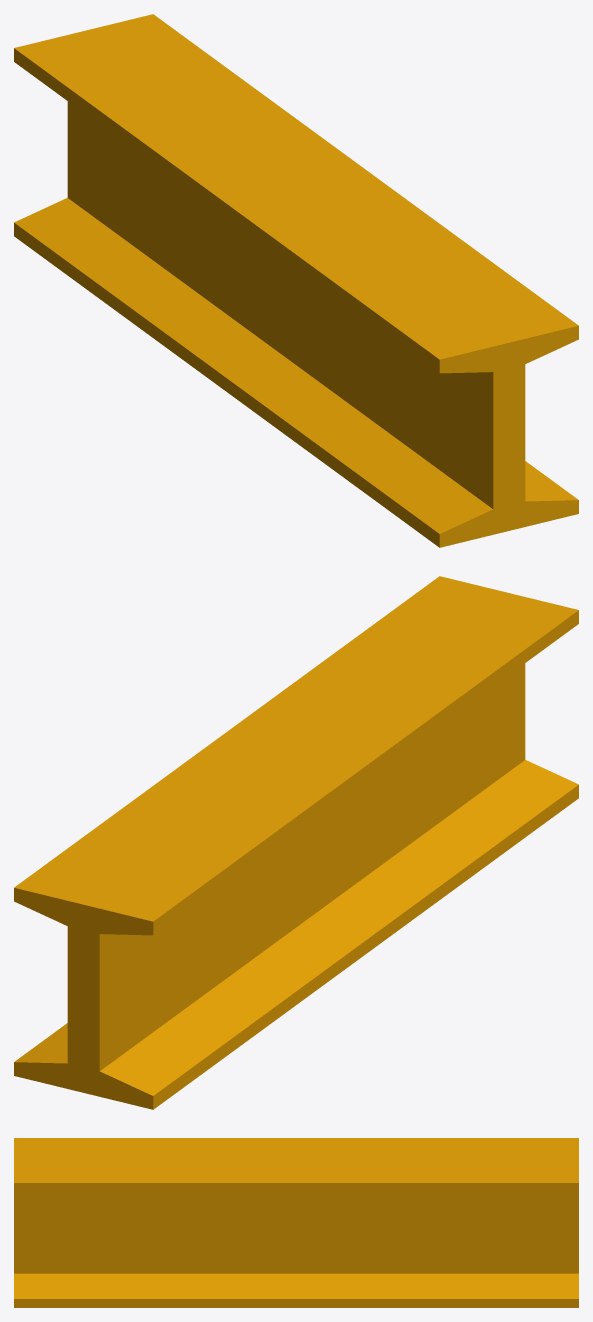
Rendered from 铝合金钢梁.FBX.
3 renders of one model, top to bottom at view 1: azimuth 30°, elevation 25°; view 2: azimuth 150°, elevation 25°; view 3: azimuth 270°, elevation 25°, orthographic. The views are drawn at different scales.
Parts seen in each view (by area): view 1: 铝合金钢梁; view 2: 铝合金钢梁; view 3: 铝合金钢梁.
Boxes of the visible parts, x1=… form: 铝合金钢梁: x1=14, y1=14, x2=578, y2=547; 铝合金钢梁: x1=14, y1=576, x2=578, y2=1109; 铝合金钢梁: x1=14, y1=1138, x2=578, y2=1307.
Size of the model in its own units: 14.29 by 18.45 by 75.67.
1 material, 1 textured.
